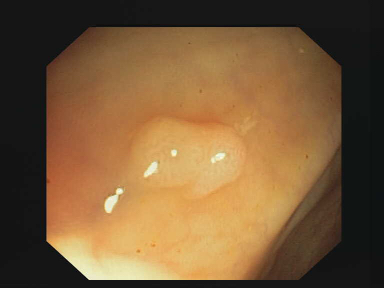polyp: (125, 115, 251, 195)
